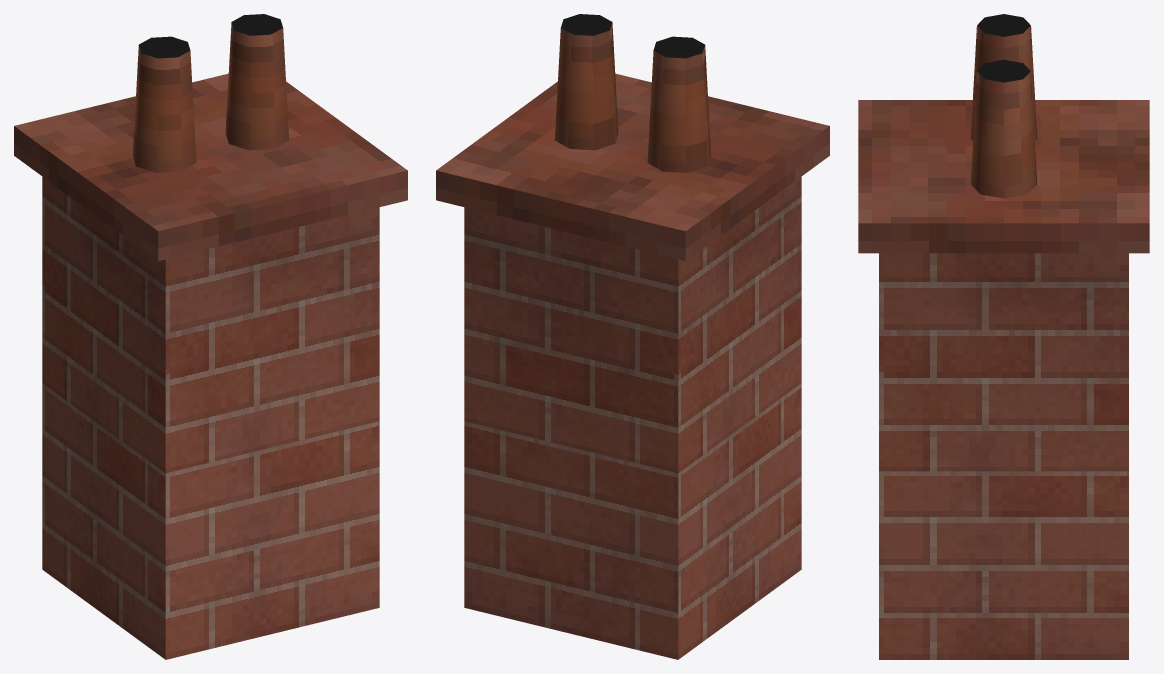
The model's file is chimney.glb.
3 renders of one model, left to right at view 1: azimuth 30°, elevation 25°; view 2: azimuth 150°, elevation 25°; view 3: azimuth 270°, elevation 25°, orthographic.
Parts seen in each view (by area): view 1: chimney; view 2: chimney; view 3: chimney.
Part boxes in pixels (box(x1,y1,x2,y2)): chimney: box(14, 14, 407, 659); chimney: box(436, 14, 829, 659); chimney: box(858, 14, 1149, 659).
Bounding box in the file's own units: 0.7 × 1.48 × 0.7.
2 materials, 2 textured.
